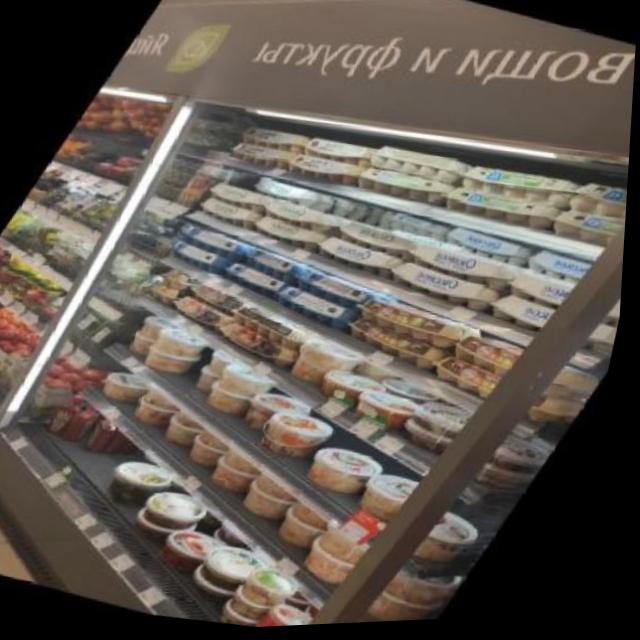Egg: (455, 152, 594, 225), (352, 292, 491, 362), (333, 313, 471, 380), (438, 178, 573, 244), (385, 259, 514, 323), (400, 239, 529, 301), (286, 263, 406, 326), (125, 483, 220, 556), (184, 539, 279, 612), (300, 440, 398, 505), (199, 356, 289, 425), (350, 160, 460, 216), (309, 232, 418, 287), (235, 386, 326, 450), (255, 405, 346, 468), (97, 452, 187, 515), (285, 333, 373, 396), (270, 282, 370, 336), (439, 224, 544, 275), (332, 217, 432, 267), (141, 324, 222, 384), (260, 197, 358, 244), (248, 173, 342, 219), (175, 220, 263, 266), (247, 213, 335, 258), (283, 148, 367, 193), (318, 366, 396, 414), (408, 398, 486, 446), (218, 259, 300, 304), (352, 388, 430, 435), (160, 236, 242, 280), (240, 245, 318, 291), (301, 131, 382, 175), (236, 119, 314, 161), (202, 178, 281, 219), (192, 194, 270, 233), (225, 136, 301, 176), (526, 251, 596, 290), (43, 392, 95, 443), (62, 398, 113, 449)
